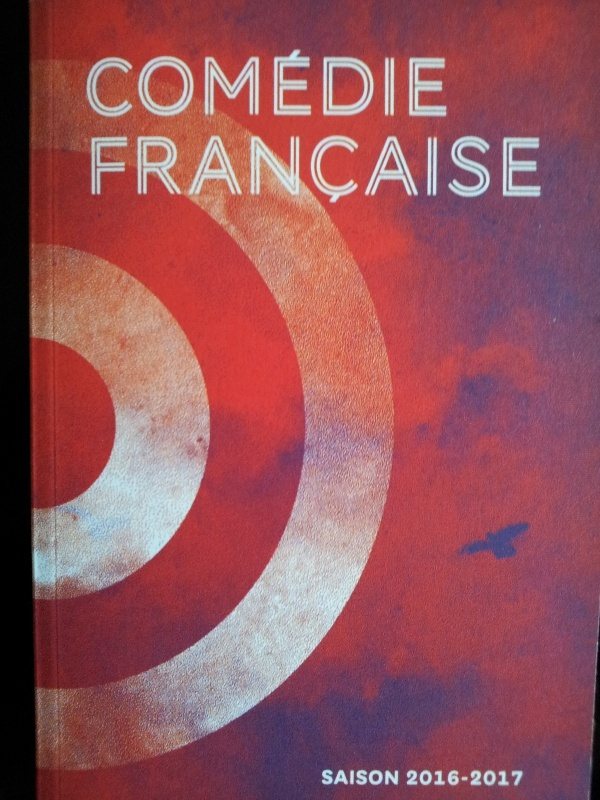text: (433, 47, 449, 121), (97, 47, 112, 121), (113, 47, 128, 121), (129, 47, 144, 121), (145, 47, 160, 121), (161, 47, 176, 121), (177, 47, 192, 121), (193, 47, 208, 121), (209, 47, 224, 121), (225, 47, 240, 121), (241, 47, 256, 121), (257, 47, 272, 121), (273, 47, 288, 121), (289, 47, 304, 121), (305, 47, 320, 121), (321, 47, 336, 121), (337, 47, 352, 121), (353, 47, 368, 121), (369, 47, 384, 121), (385, 47, 400, 121), (401, 47, 416, 121), (417, 47, 432, 121), (97, 135, 112, 205), (113, 135, 128, 205), (129, 135, 144, 205), (145, 135, 160, 205), (161, 135, 176, 205), (177, 135, 192, 205), (193, 135, 208, 205), (209, 135, 224, 205), (225, 135, 240, 205), (241, 135, 256, 205), (257, 135, 272, 205), (273, 135, 288, 205), (289, 135, 304, 205), (305, 135, 320, 205), (321, 135, 336, 205), (337, 135, 352, 205), (353, 135, 368, 205), (369, 135, 384, 205), (385, 135, 400, 205), (401, 135, 416, 205), (417, 135, 432, 205), (433, 135, 448, 205), (449, 135, 464, 205), (465, 135, 480, 205), (481, 135, 496, 205), (497, 135, 512, 205), (513, 135, 528, 205), (529, 135, 543, 205), (85, 47, 96, 121), (89, 135, 96, 205), (417, 769, 432, 787), (433, 769, 448, 787), (449, 769, 464, 787), (465, 769, 480, 787), (481, 769, 496, 787), (497, 769, 512, 787), (337, 769, 352, 786), (353, 769, 368, 786), (369, 769, 384, 786), (385, 769, 400, 786), (322, 769, 336, 786), (513, 769, 524, 787), (407, 769, 416, 787)
